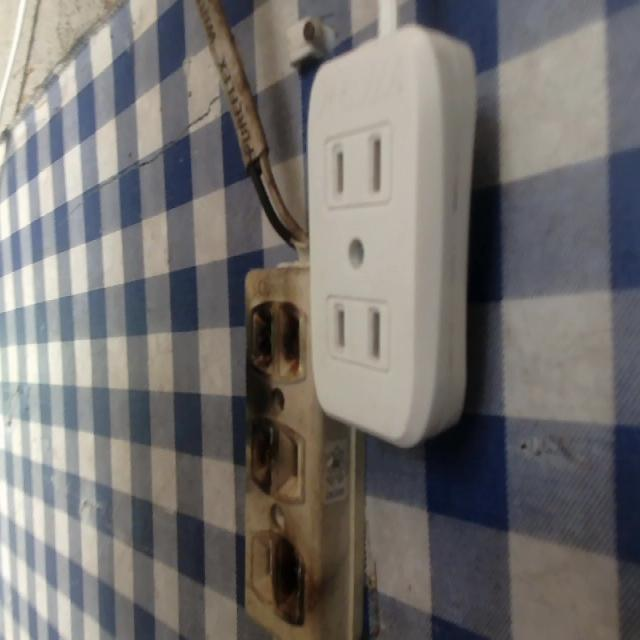-: (247, 297, 305, 383), (271, 534, 316, 622), (241, 408, 280, 484)
